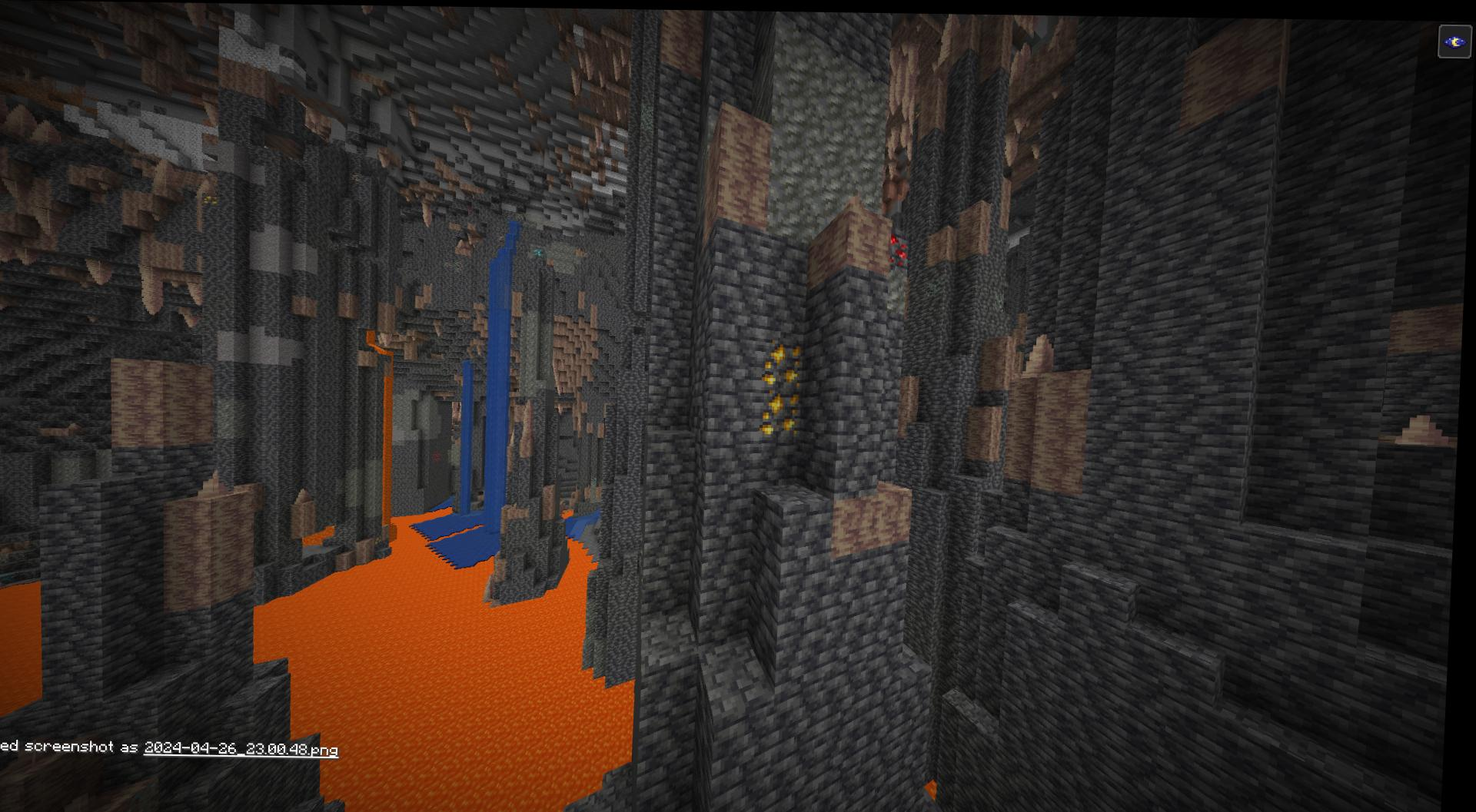gold ore: (765, 339, 808, 389), (765, 390, 806, 433)
redstone ore: (889, 229, 916, 269)
